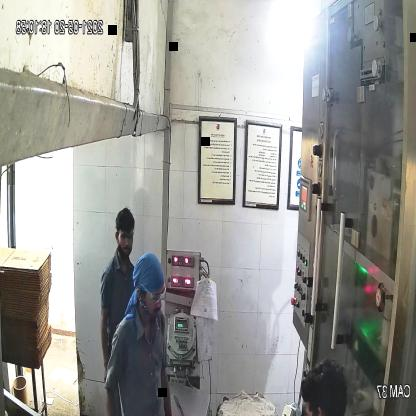goggles: (140, 280, 170, 304)
no_goggles: (115, 229, 136, 247)
